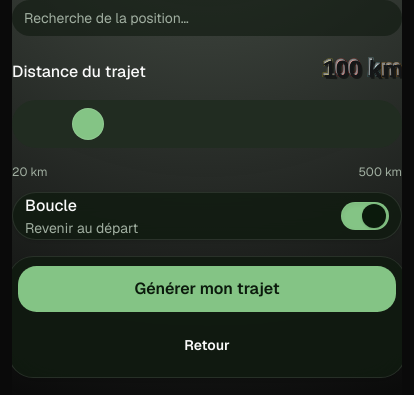
Test: DescribeRidePanel (FR-034) › updates the displayed distance from the slider
Set the slider named "Distance du trajet en kilomètres" to "180" at (145, 124), box [12,100,402,148]
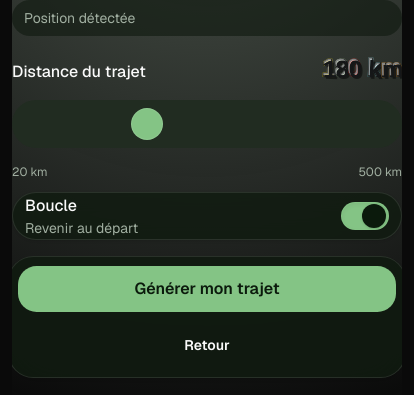
Now the element named "180 km" is shown, box [322,52,402,84]
